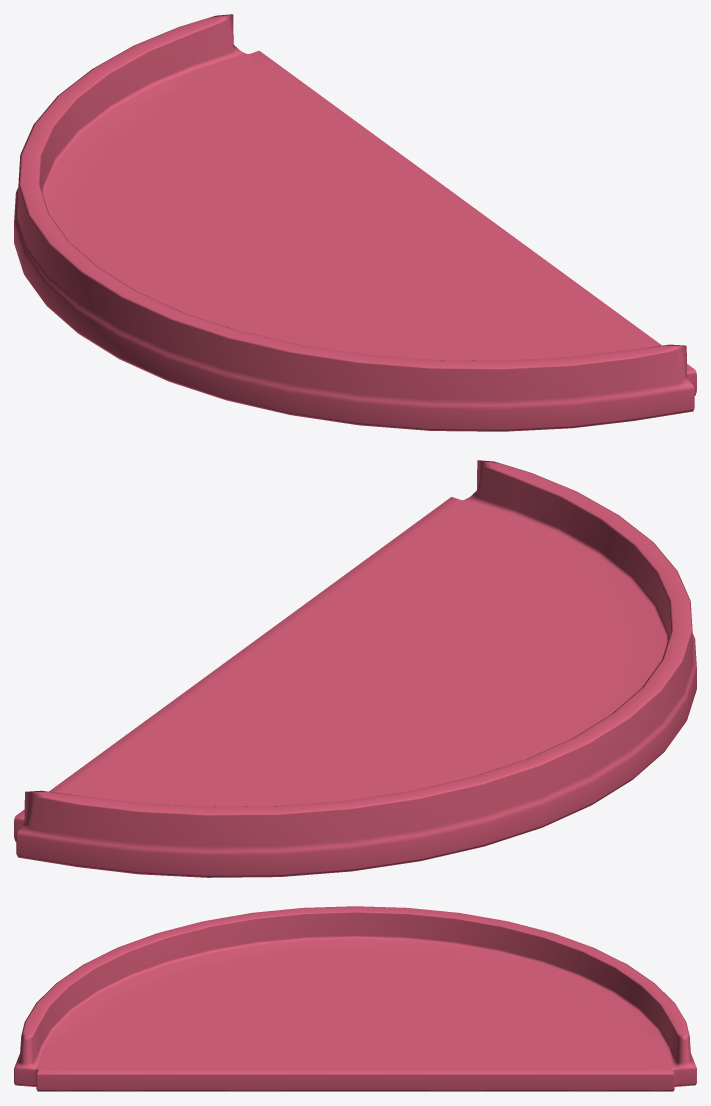
The model's file is Plastic_Board_01.fbx.
The picture shows the model from 3 angles, top to bottom: view 1: azimuth 30°, elevation 25°; view 2: azimuth 150°, elevation 25°; view 3: azimuth 270°, elevation 25°; orthographic projection. The views are drawn at different scales.
Visible parts, largest first — view 1: Plastic_Board_01; view 2: Plastic_Board_01; view 3: Plastic_Board_01.
Boxes of the visible parts, <box> form: Plastic_Board_01: <box>14,14,696,431</box>; Plastic_Board_01: <box>14,460,696,877</box>; Plastic_Board_01: <box>14,906,696,1091</box>.
Size of the model in its own units: 91.58 by 13.56 by 185.
